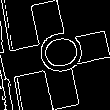O_W: (26, 29, 84, 81)
